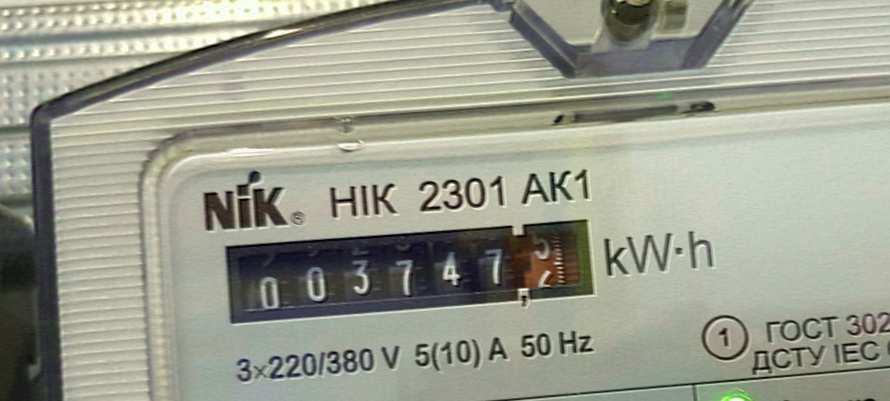0: (258, 272, 283, 309), (305, 262, 328, 302)
3: (350, 256, 372, 295)
4: (439, 247, 463, 288)
5: (531, 230, 553, 260)
6: (535, 265, 555, 288)
7: (483, 243, 508, 285), (395, 255, 417, 296)
screen: (215, 201, 611, 341)
